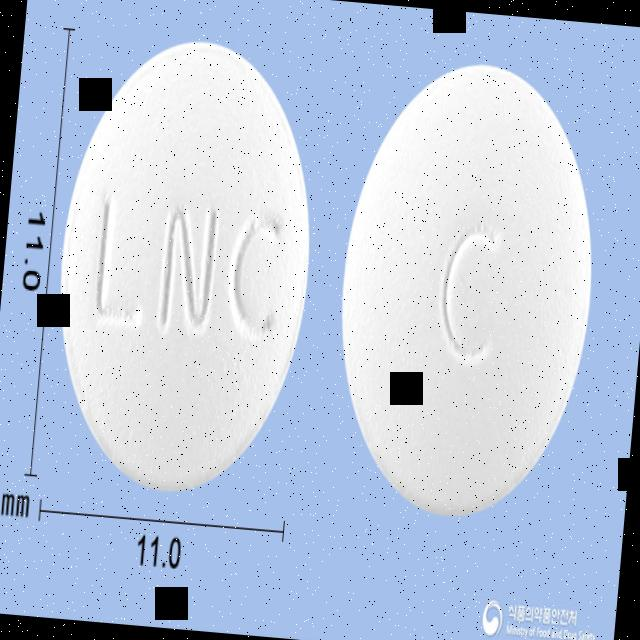Mega Ciflox: (322, 52, 612, 528), (42, 31, 329, 499)
